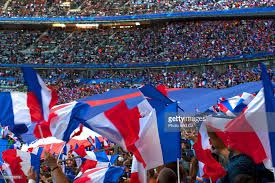French Flag: (21, 67, 51, 122), (1, 93, 41, 123), (2, 151, 40, 178), (86, 135, 94, 144)
